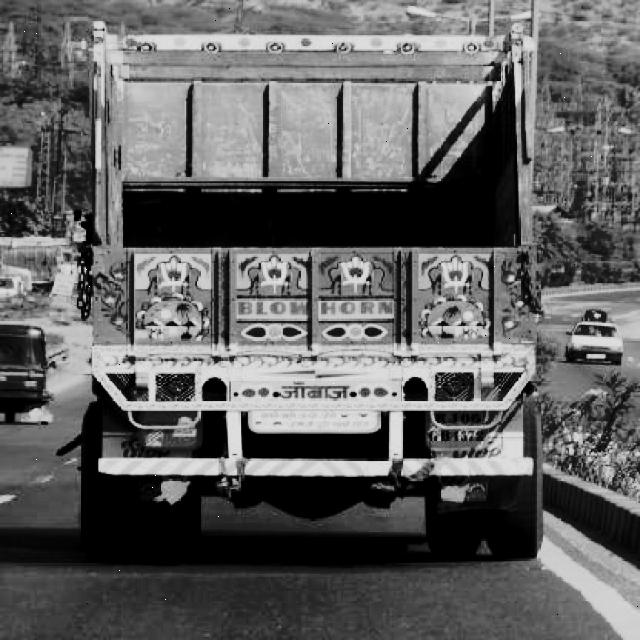HCV: (86, 20, 537, 539)
